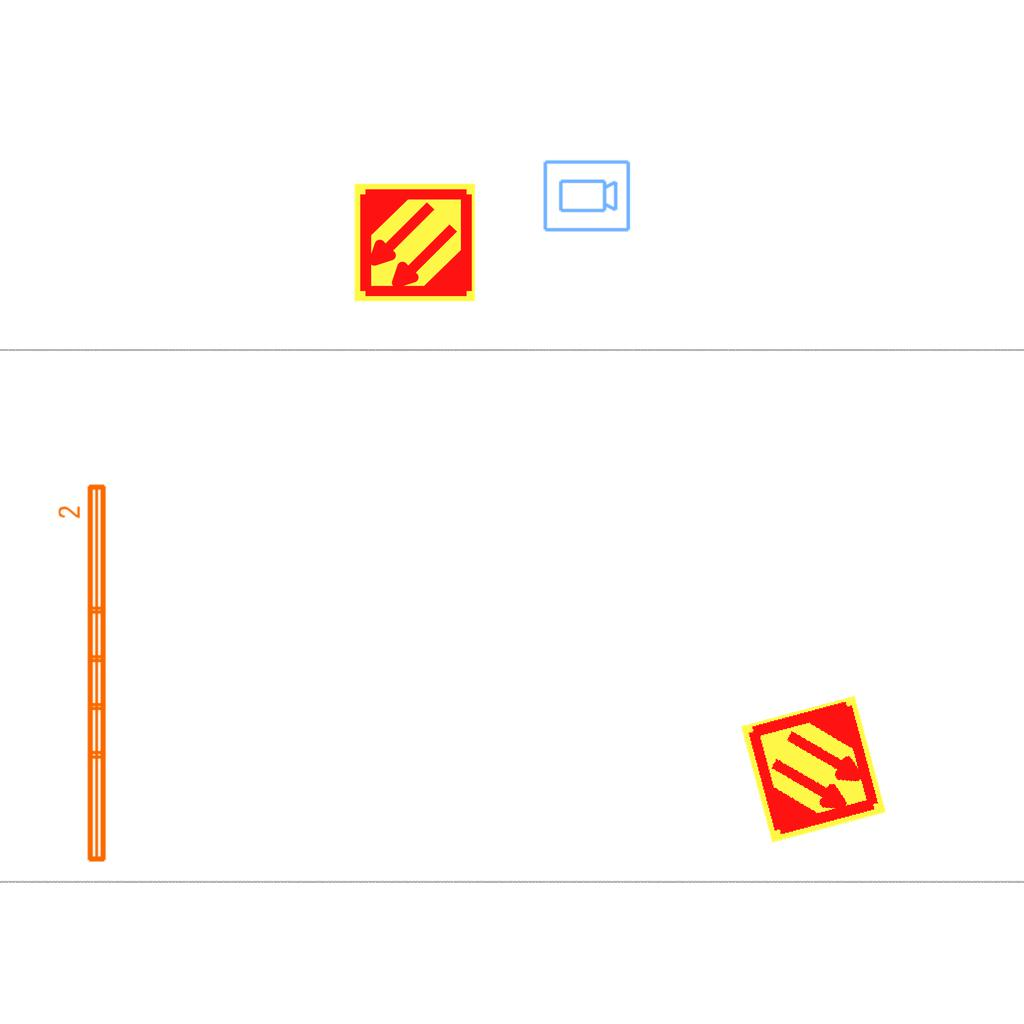ASR_Ansaugrauchmelder: (736, 692, 891, 847), (352, 180, 477, 305)
Ambulanz_Pendelleuchte_LED: (56, 480, 112, 867)
KFO_Kamera_mit_Festobjektiv: (541, 158, 632, 235)
